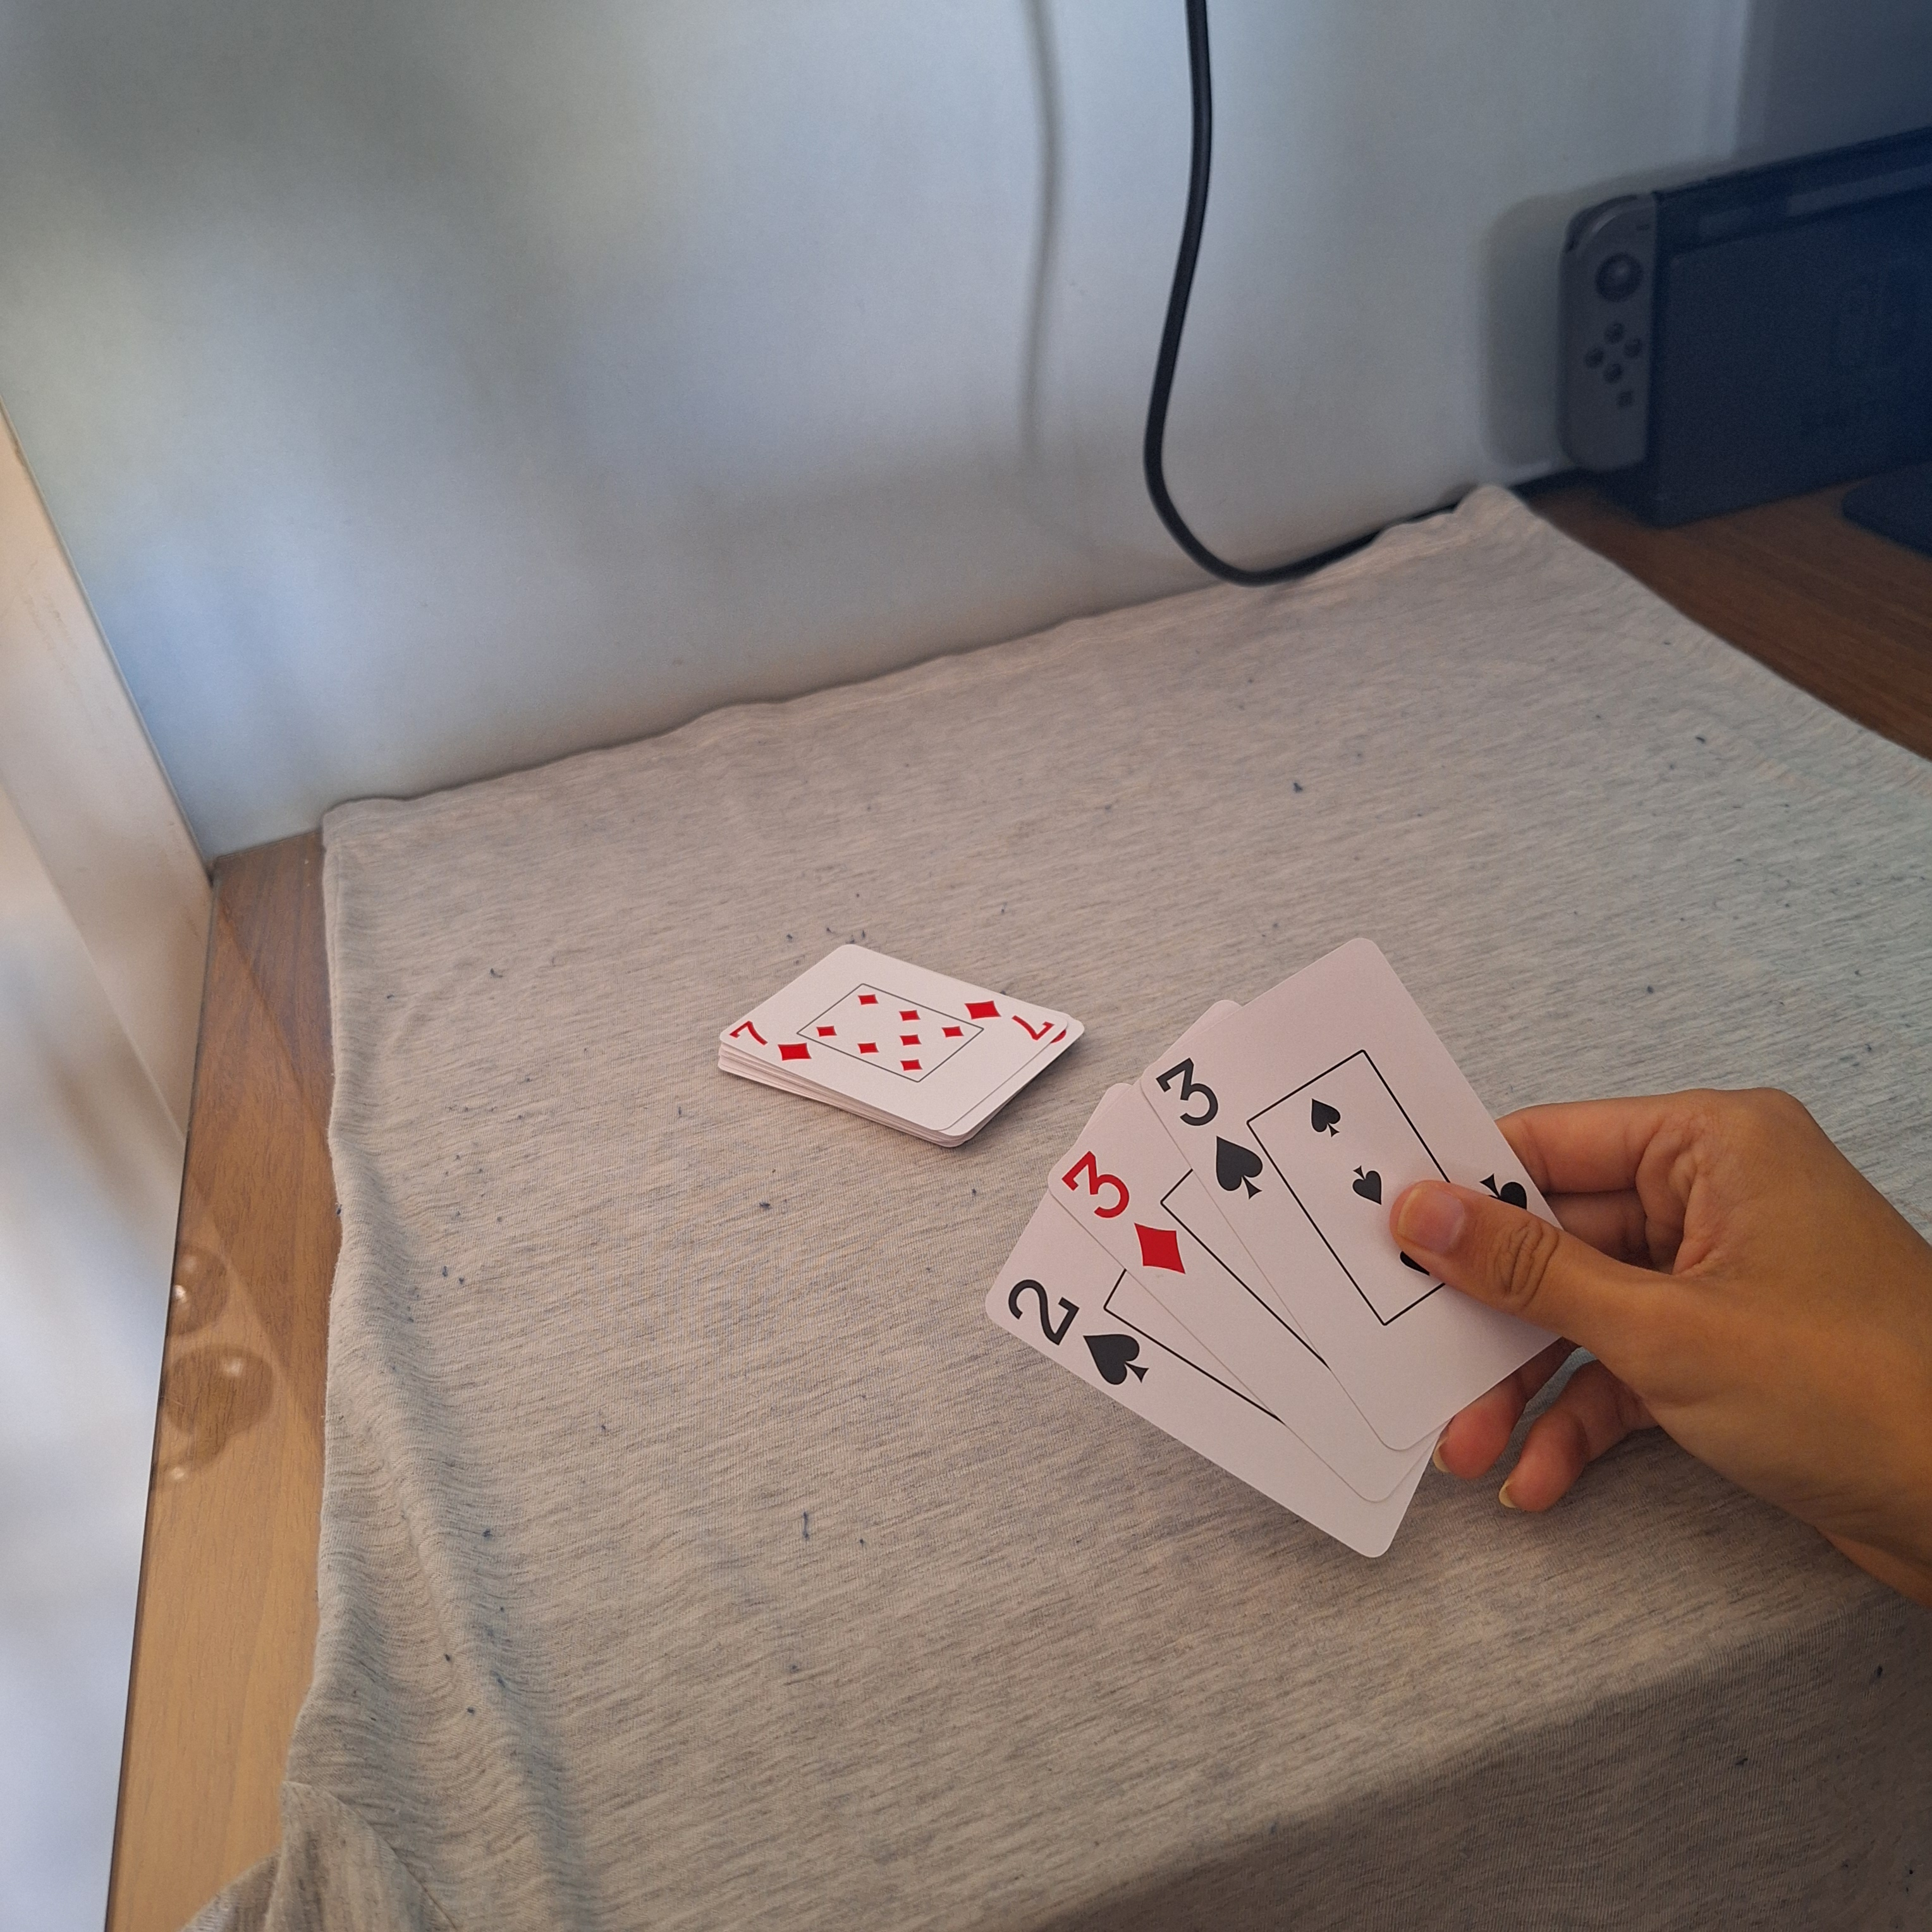2E: (998, 1270, 1152, 1389)
3E: (1152, 1056, 1270, 1203)
3O: (1060, 1150, 1192, 1281)
7O: (961, 996, 1058, 1047), (725, 1017, 816, 1067)
